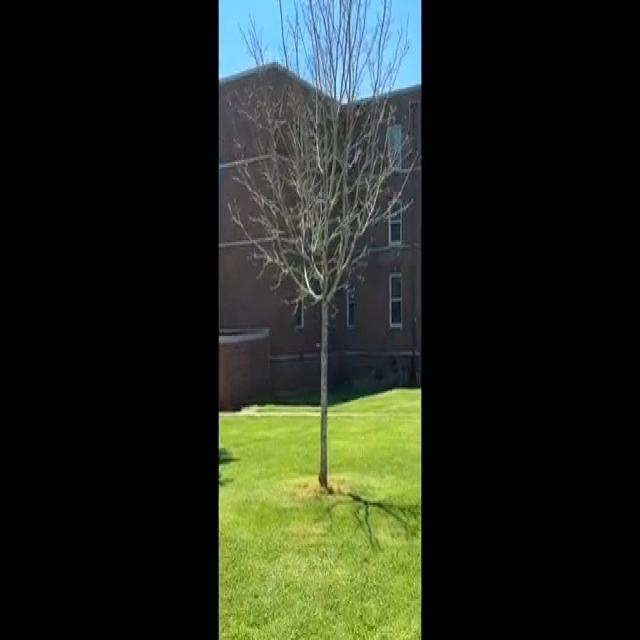drone: (314, 334, 325, 354)
